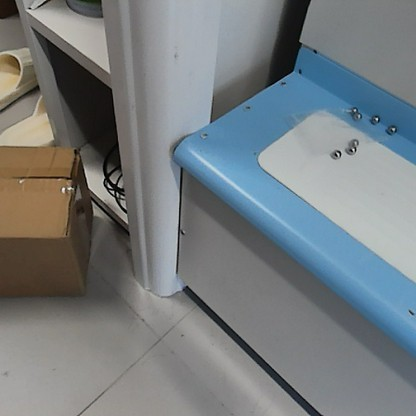ironball: (343, 143, 357, 158), (369, 111, 382, 127), (384, 122, 400, 135), (328, 147, 341, 160), (351, 111, 362, 123), (349, 136, 361, 147), (348, 104, 358, 113)
